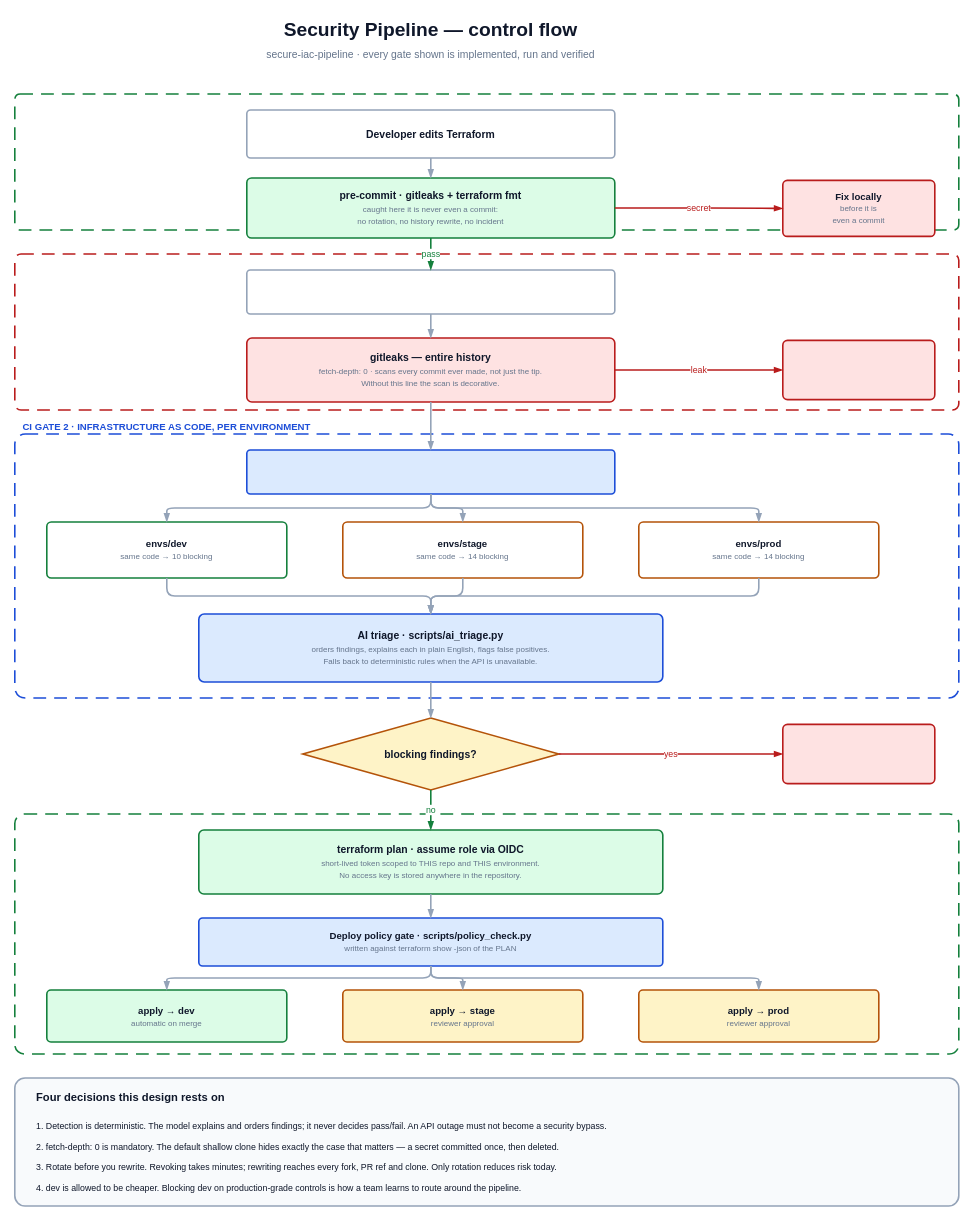
This 973x1220 diagram has some shape labels left out. The box of each missing label's shape, as (x1, y1, x2, y2) in pixels:
BLOCKED rotate FIRST, then rewrite: (782, 339, 935, 400)
BLOCKED the PR comment says exactly what to fix: (782, 723, 935, 784)
Checkov · matrix over three environments: (246, 449, 615, 494)
CI GATE 1 · SECRETS — RUNS FIRST AND ALONE: (14, 253, 959, 410)
DEPLOY · GITHUB OIDC — NO STORED CLOUD CREDENTIALS: (14, 813, 959, 1054)
LOCAL — THE CHEAPEST GATE: (14, 93, 959, 230)
Push / open pull request: (246, 269, 615, 314)
